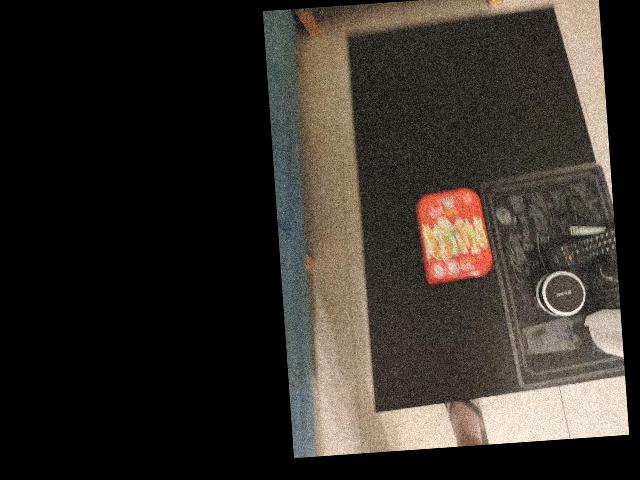cheese: (415, 182, 497, 287)
